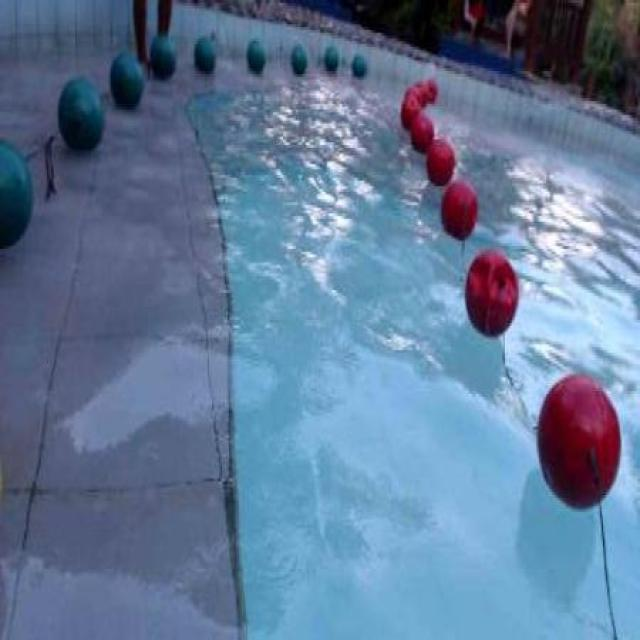buoy: (535, 370, 621, 510), (463, 250, 518, 336), (54, 76, 104, 154), (0, 134, 33, 249), (439, 176, 478, 239), (108, 50, 144, 109), (425, 134, 455, 183), (149, 32, 174, 78), (410, 109, 433, 154), (194, 34, 216, 70), (246, 37, 266, 73), (401, 95, 421, 130), (290, 42, 307, 72), (323, 44, 338, 71), (352, 54, 365, 77)
